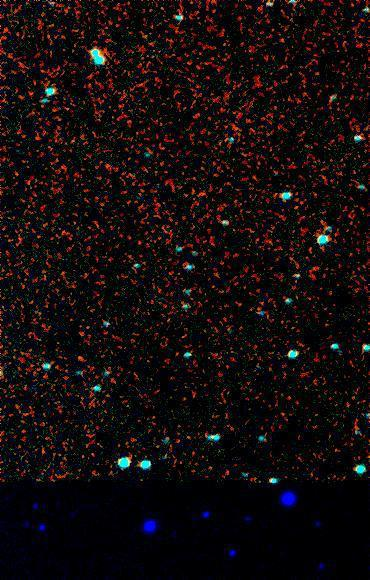star: (68, 340, 98, 370)
